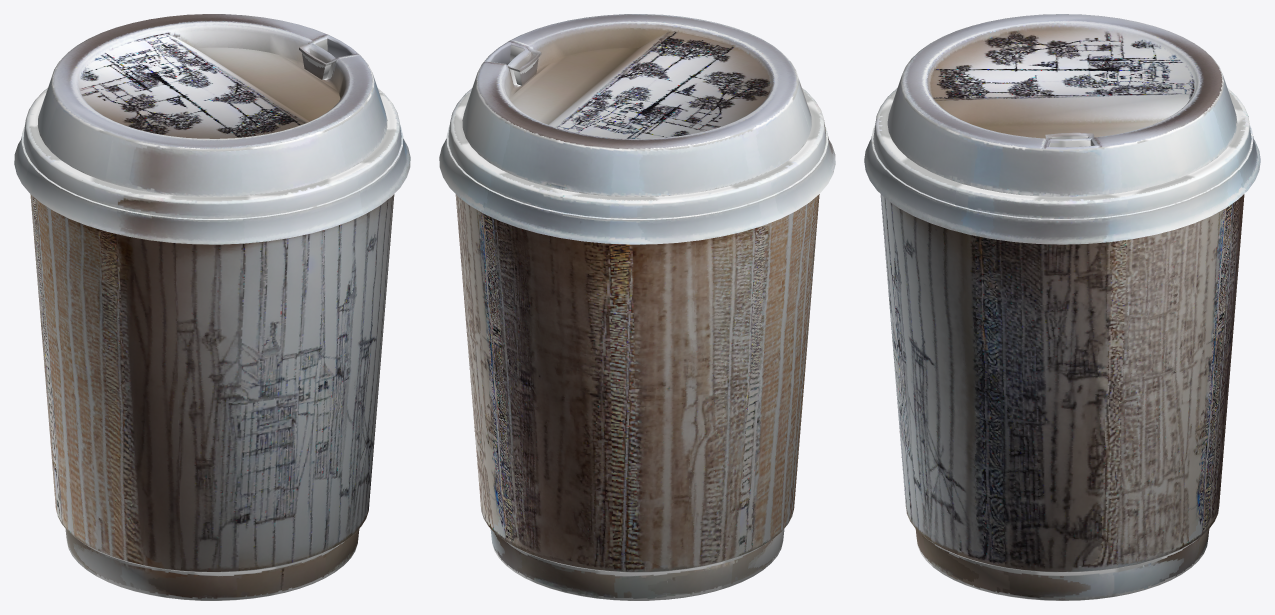
3 views of the same model, side by side, from view 1: azimuth 30°, elevation 25°; view 2: azimuth 150°, elevation 25°; view 3: azimuth 270°, elevation 25° (orthographic).
Parts seen in each view (by area): view 1: 9; view 2: 9; view 3: 9.
Part boxes in pixels (left/top/right/bottom): 9: left=14, top=14, right=410, bottom=600; 9: left=439, top=14, right=835, bottom=600; 9: left=864, top=14, right=1260, bottom=600.
Bounding box in the file's own units: 1.57 × 2 × 1.57.
Materials: 1 (1 with a texture image).
